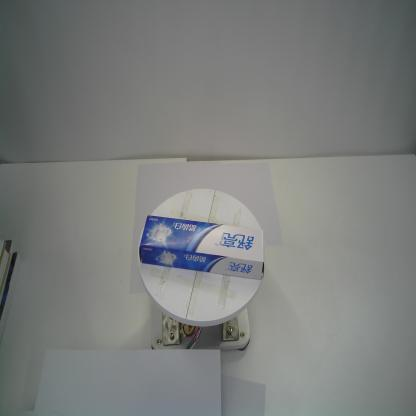Personal Hygiene: (139, 215, 264, 281)
